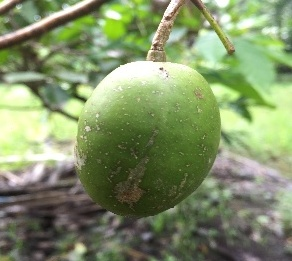Coc: (75, 59, 239, 220)
